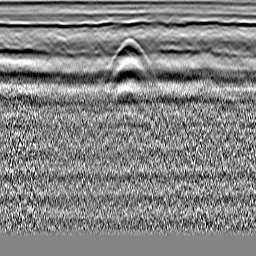cavity: (107, 37, 151, 64)
